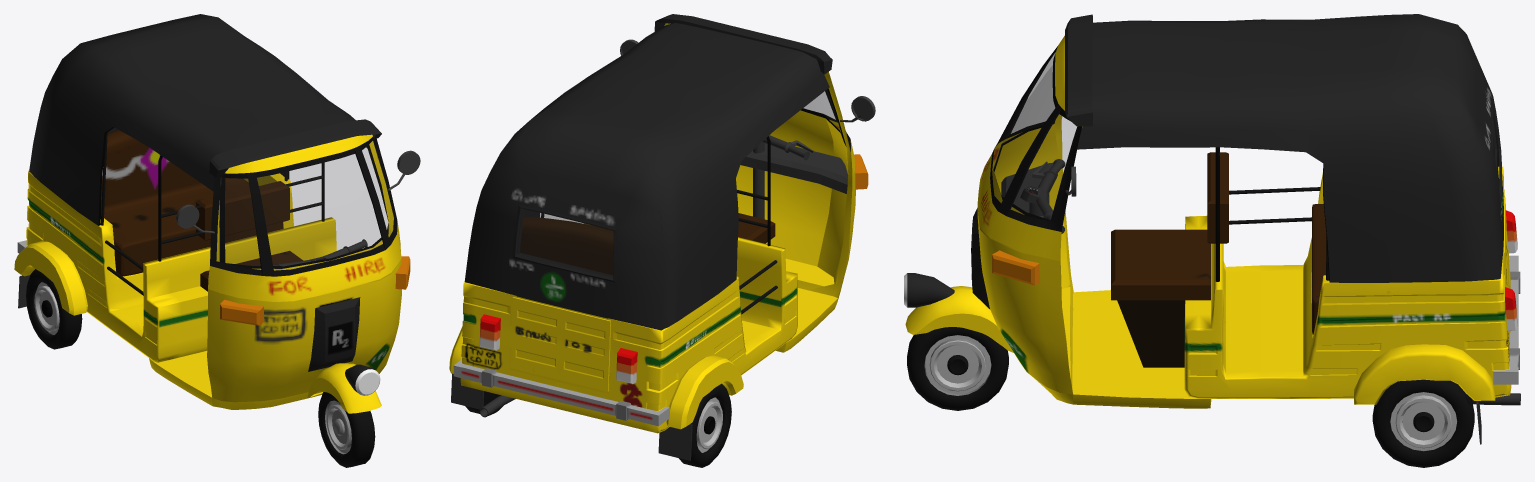
3 renders of one model, left to right at view 1: azimuth 30°, elevation 25°; view 2: azimuth 150°, elevation 25°; view 3: azimuth 270°, elevation 25°, orthographic. The views are drawn at different scales.
Parts seen in each view (by area): view 1: persp5; view 2: persp5; view 3: persp5.
Part boxes in pixels (x1,y1,x2,y2): persp5: (14, 14, 420, 467); persp5: (449, 14, 875, 467); persp5: (904, 14, 1520, 467).
Bounding box in the file's own units: 1.5 × 1.74 × 2.72.
Materials: 2 (1 with a texture image).
